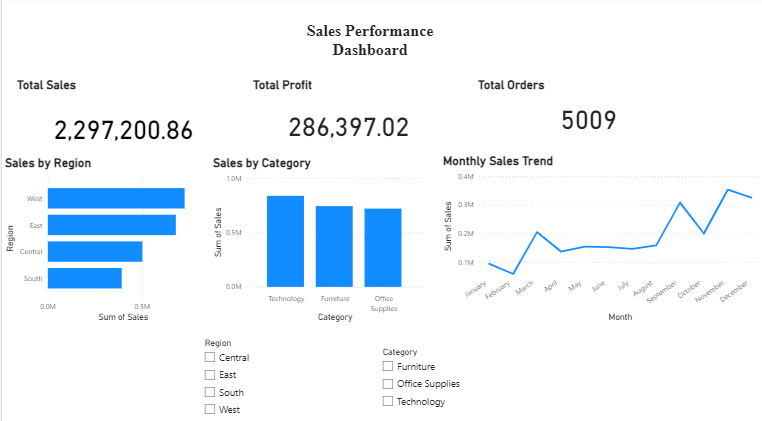

The dashboard page shown, as its layout file describes it:
{"tool":"powerbi","page":{"name":"Page 1","canvas":[1280,720],"ordinal":0},"visuals":[{"type":"card","title":"Total Sales","fields":{"Values":["Sum(cleaned_sales_data.Sales)"]},"box":[20.2,136.1,367.9,142.8],"z":0},{"type":"card","title":"Total Profit","fields":{"Values":["Sum(cleaned_sales_data.Profit)"]},"box":[416.6,136.1,330.9,131],"z":1},{"type":"card","title":"Total Orders","fields":{"Values":["Count(cleaned_sales_data.Order ID)"]},"box":[794.5,136.1,379.6,107.5],"z":2},{"type":"clusteredBarChart","title":"Sales by Region","fields":{"Category":["cleaned_sales_data.Region"],"Y":["Sum(cleaned_sales_data.Sales)"]},"box":[0,267.1,349.4,283.9],"z":3},{"type":"clusteredColumnChart","title":"Sales by Category","fields":{"Category":["cleaned_sales_data.Category"],"Y":["Sum(cleaned_sales_data.Sales)"]},"box":[349.4,267.1,362.8,283.9],"z":4},{"type":"lineChart","title":"Monthly Sales Trend","fields":{"Category":["cleaned_sales_data.Month"],"Y":["Sum(cleaned_sales_data.Sales)"]},"box":[735.7,263.7,544.3,287.2],"z":5},{"type":"slicer","fields":{"Values":["cleaned_sales_data.Region"]},"box":[327.6,567.8,255.3,152.9],"z":6},{"type":"slicer","fields":{"Values":["cleaned_sales_data.Category"]},"box":[626.6,582.9,240.2,124.3],"z":7},{"type":"textbox","box":[453.5,37,329.2,99.1],"z":8}]}

Visuals, with their boxes in screenshot pixels (x1, y1, x2, y2), scaled from the page's 1280x720 canvas onto the 762x421 screenshot:
"Total Sales" card: bbox=[12, 80, 231, 163]
"Total Profit" card: bbox=[248, 80, 445, 156]
"Total Orders" card: bbox=[473, 80, 699, 142]
"Sales by Region" clusteredBarChart: bbox=[0, 156, 208, 322]
"Sales by Category" clusteredColumnChart: bbox=[208, 156, 424, 322]
"Monthly Sales Trend" lineChart: bbox=[438, 154, 761, 322]
slicer - cleaned_sales_data.Region: bbox=[195, 332, 347, 420]
slicer - cleaned_sales_data.Category: bbox=[373, 341, 516, 414]
textbox: bbox=[270, 22, 466, 80]
